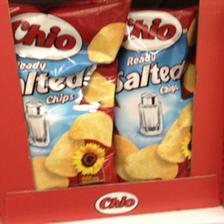Chips: (3, 0, 121, 191), (112, 5, 196, 179)
